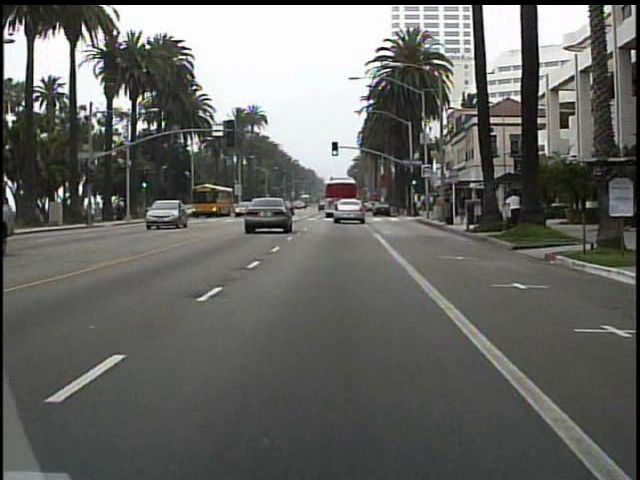person: (505, 186, 523, 230), (457, 190, 467, 227)
